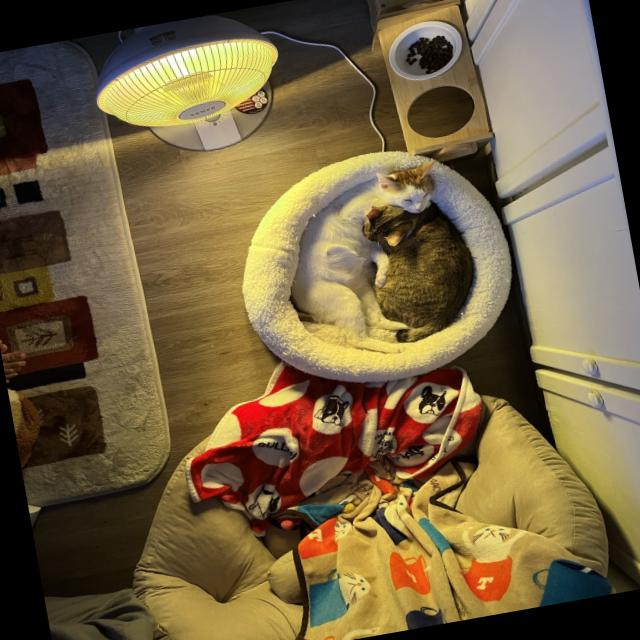cat1: (268, 160, 468, 370)
cat2: (361, 190, 490, 344)
